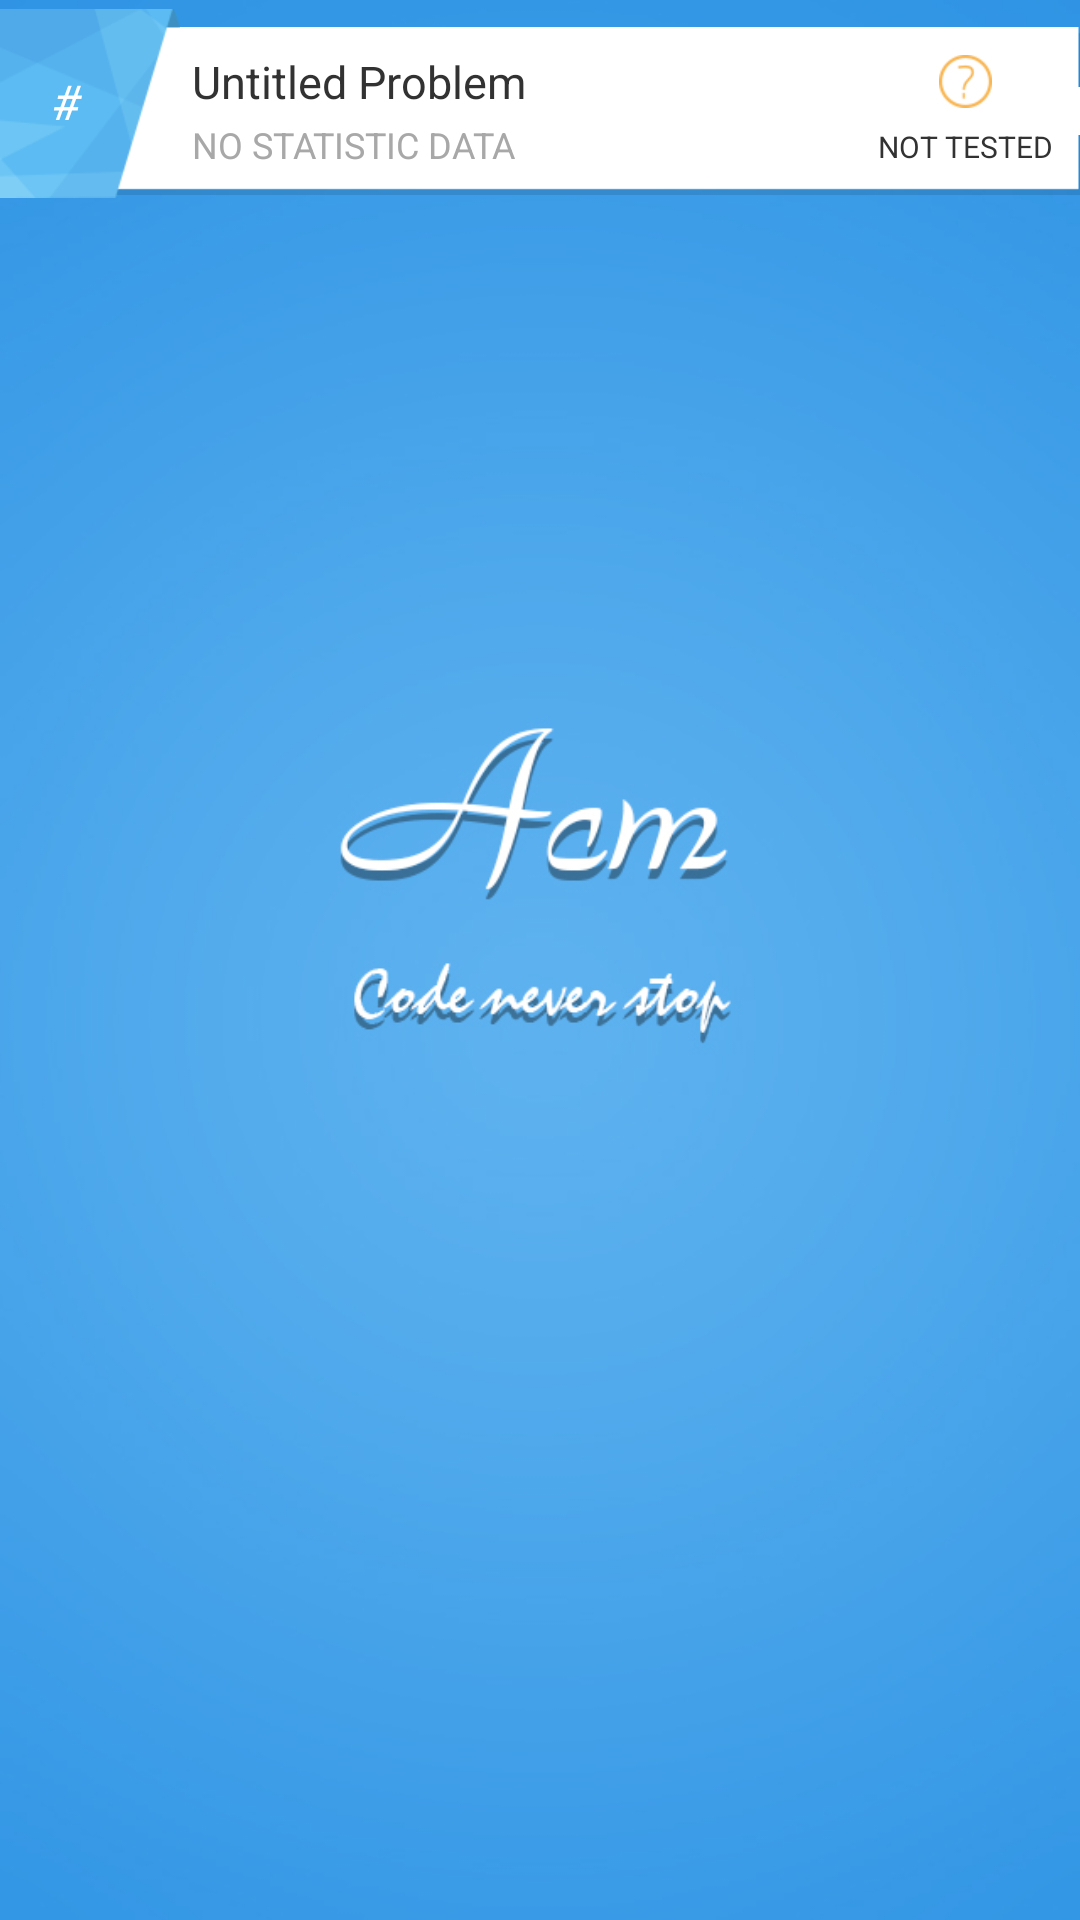

Point at icon controls on the screen. Image size 1080px x 1920px, points as (x=x, y=y).
problem id decoration: (x=90, y=103)
